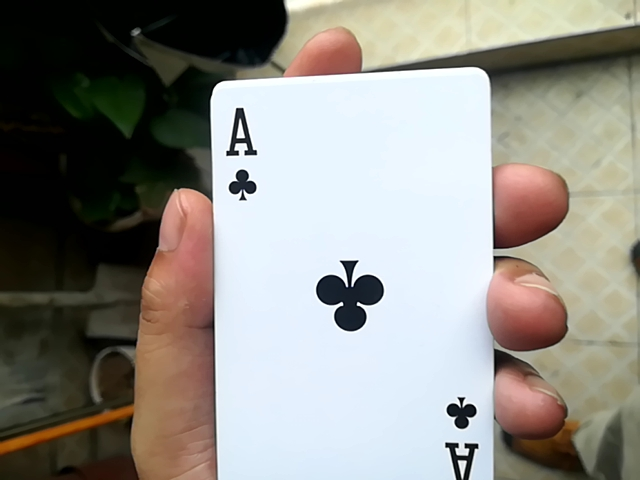mh a: (195, 61, 507, 477)
